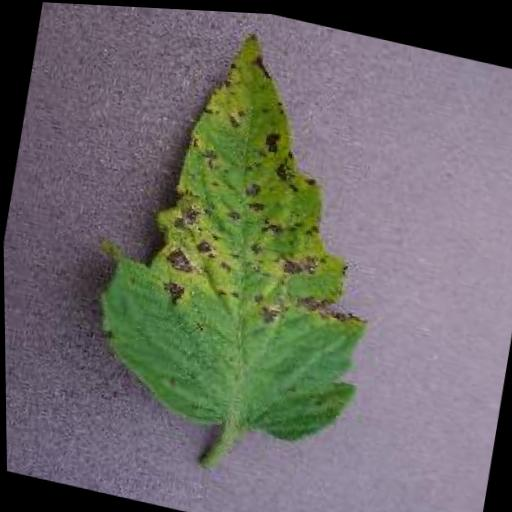Septoria: (75, 3, 412, 455)
